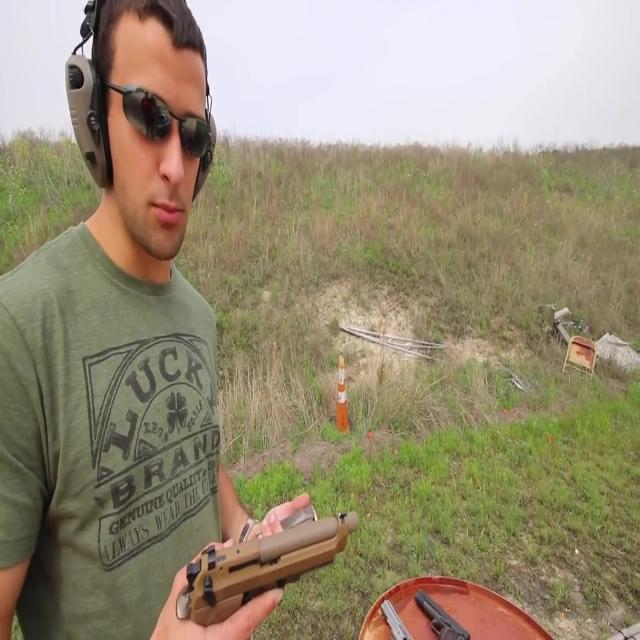Weapon: (175, 458, 523, 640)
